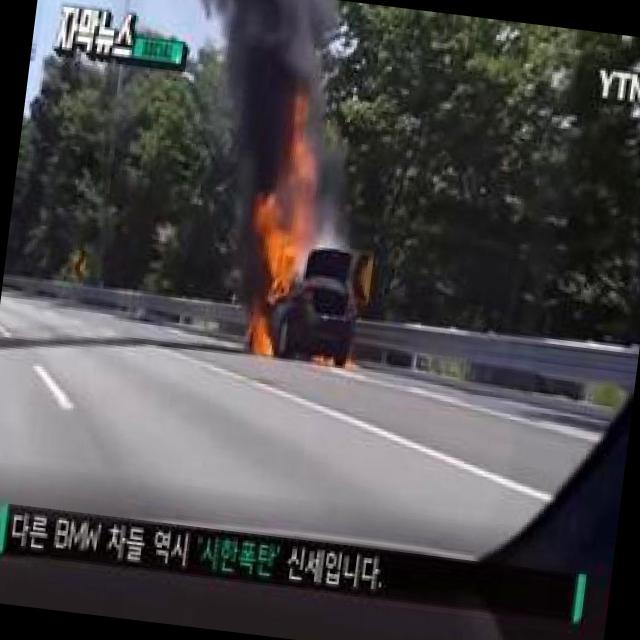Fire: (230, 83, 335, 300), (236, 294, 283, 360)
